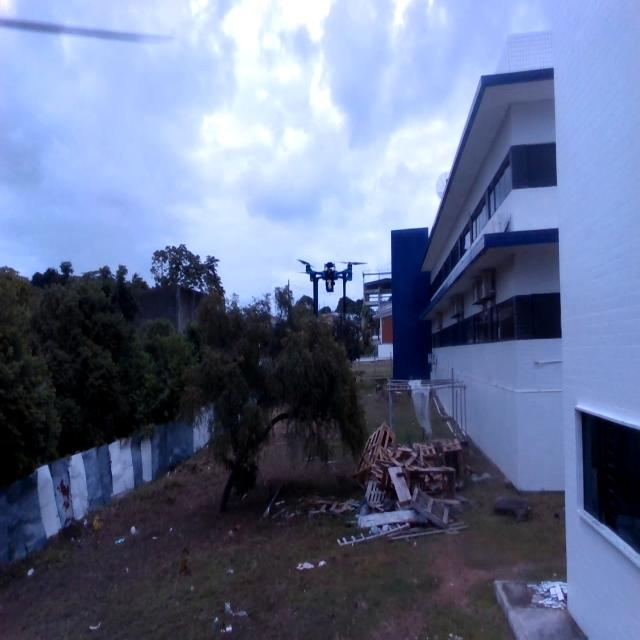-uav-: (290, 231, 374, 339)
